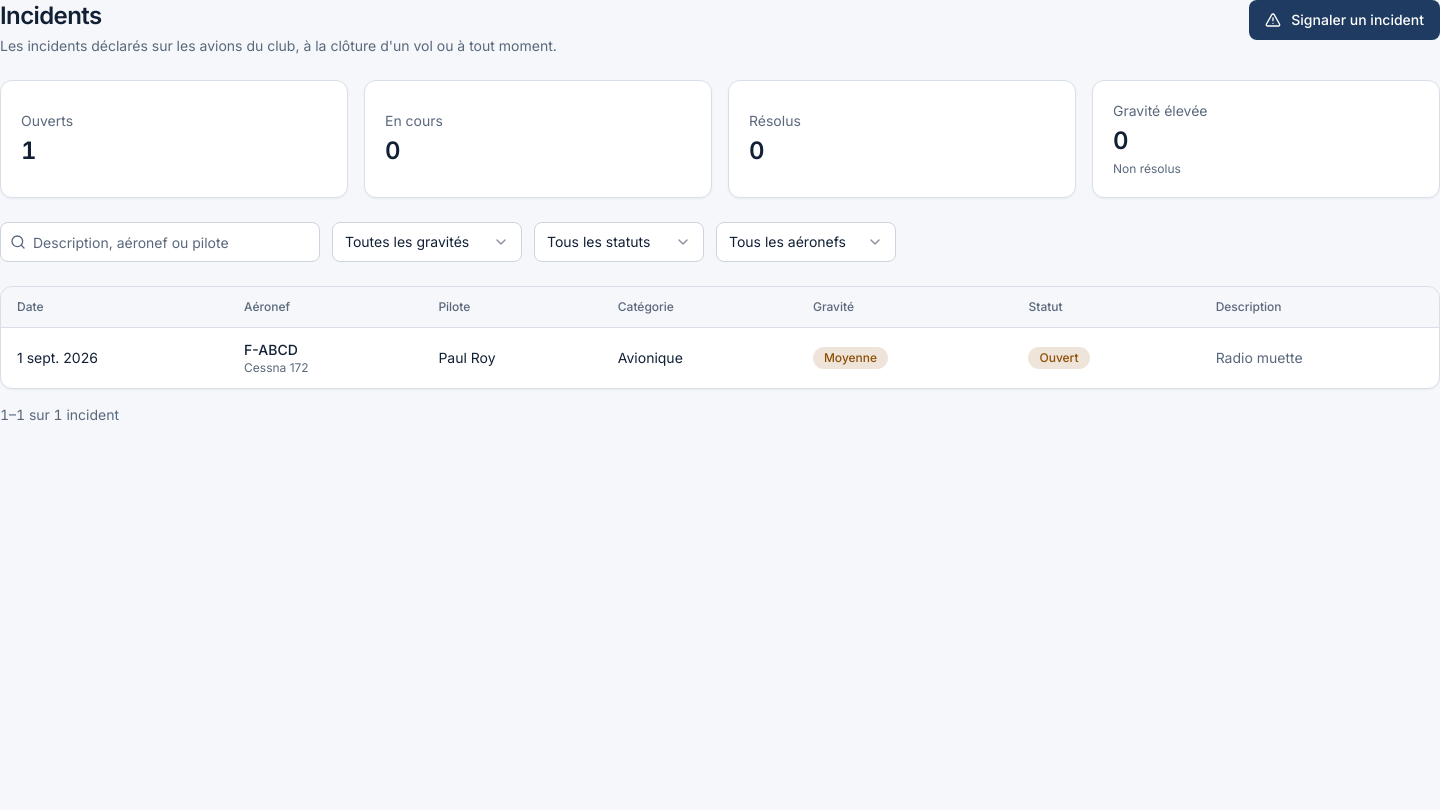
Test: Incidents de la flotte › le signalement de son auteur › propose de le supprimer tant que personne ne l’a pris en charge, après confirmation
This screenshot has width=1440, height=810.
Click the text "Radio muette".
click(1259, 357)  # box [1216,348,1303,366]
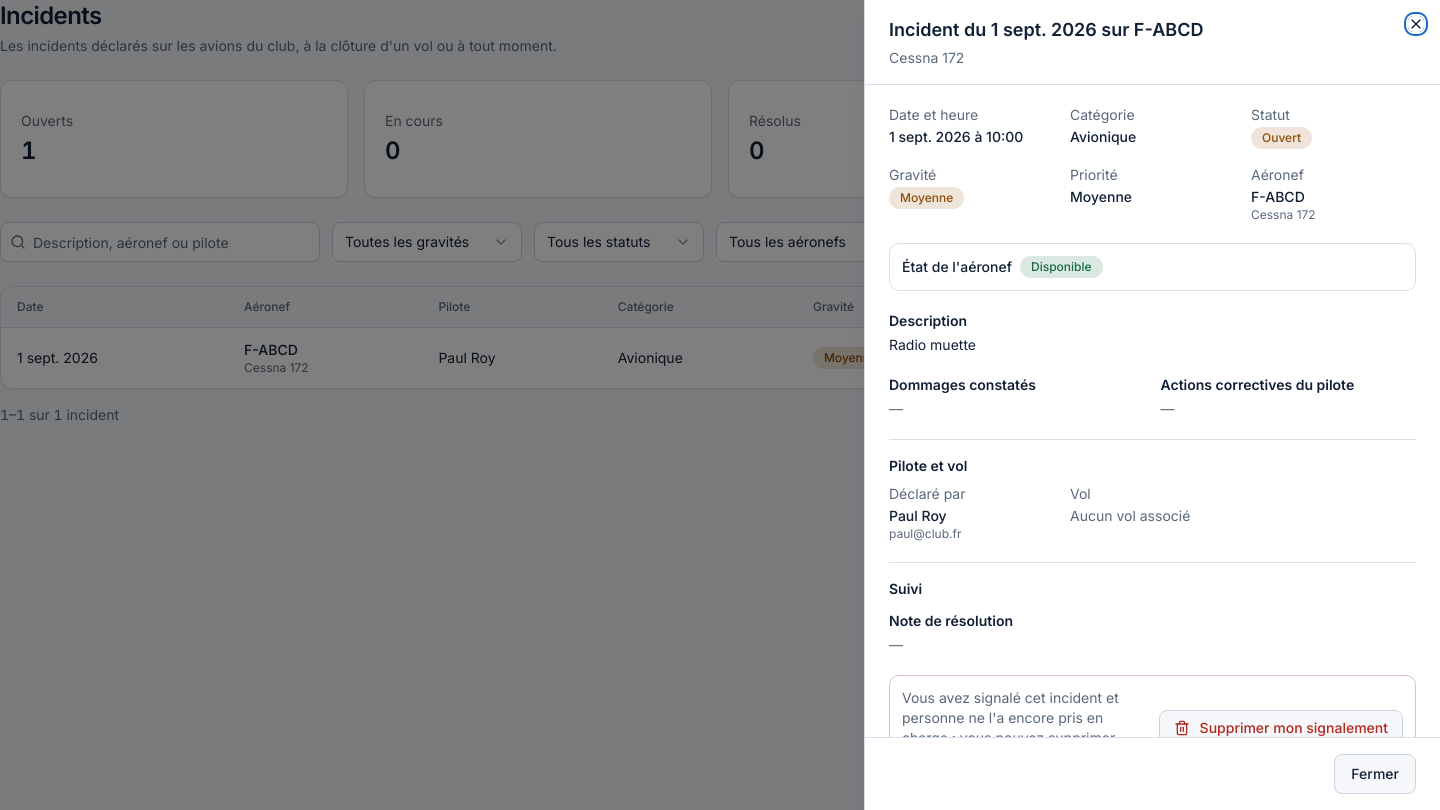
Result: the text "personne ne l'a encore pris en charge" is shown at [902,689,1119,766]
Click the button "Supprimer mon signalement".
click(1281, 728)  # box [1159,710,1403,746]
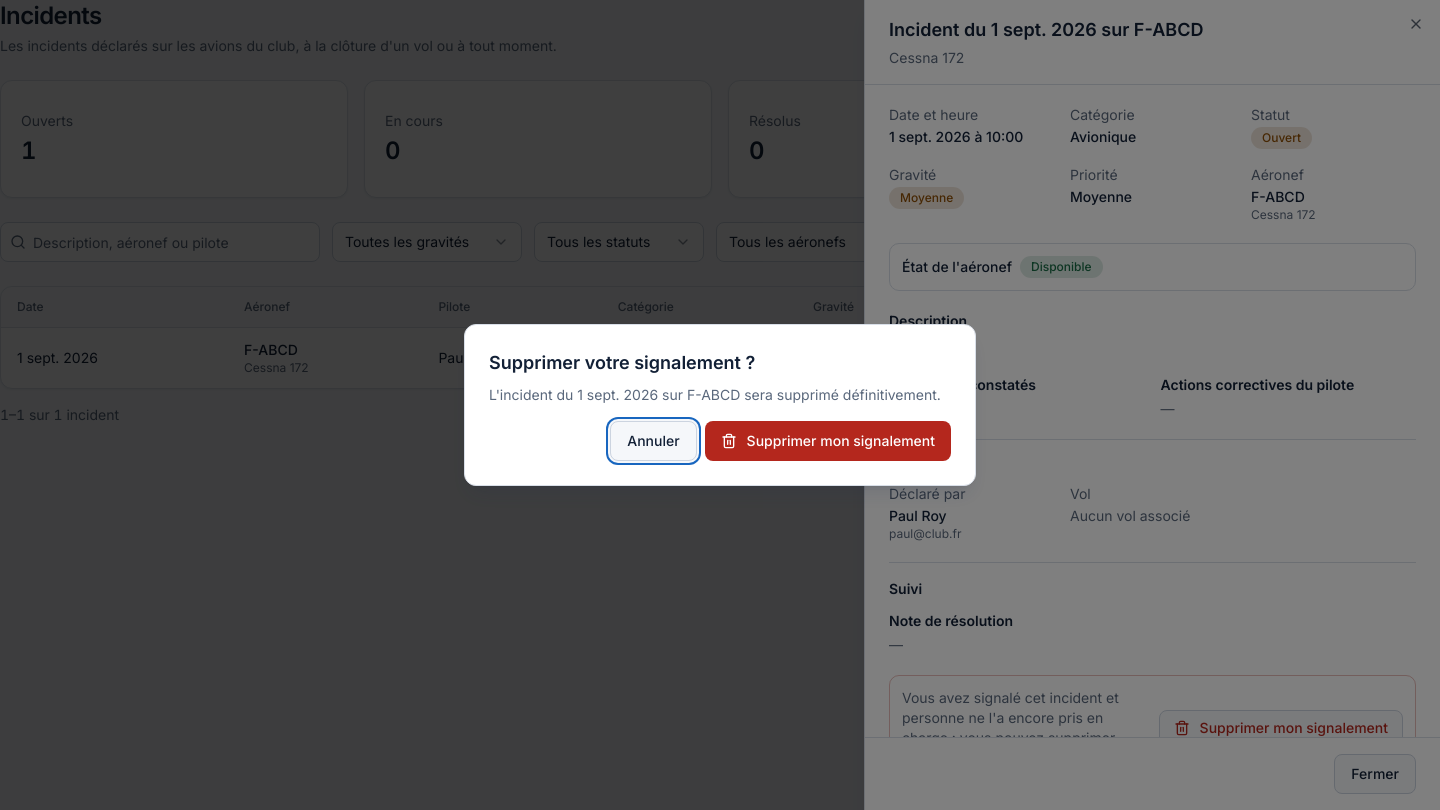
Result: the heading "Supprimer votre signalement ?" is shown at [489,352,755,373]
Result: the text "sur F-ABCD sera supprimé définitivement" is shown at [489,386,941,403]
Click the button "Supprimer mon signalement".
click(828, 441)  # box [705,421,951,461]
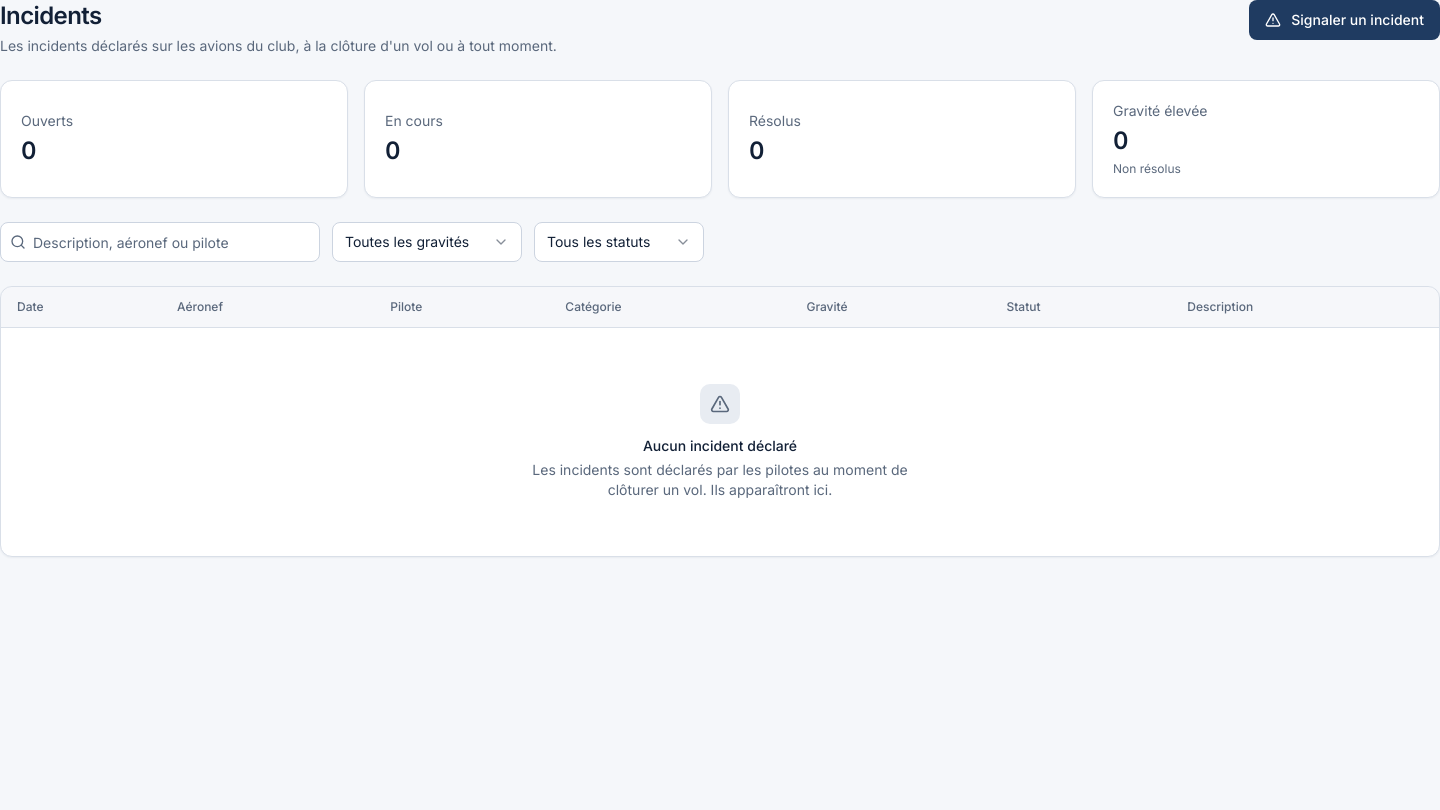
Result: the text "Aucun incident déclaré" is shown at [643,436,797,456]
